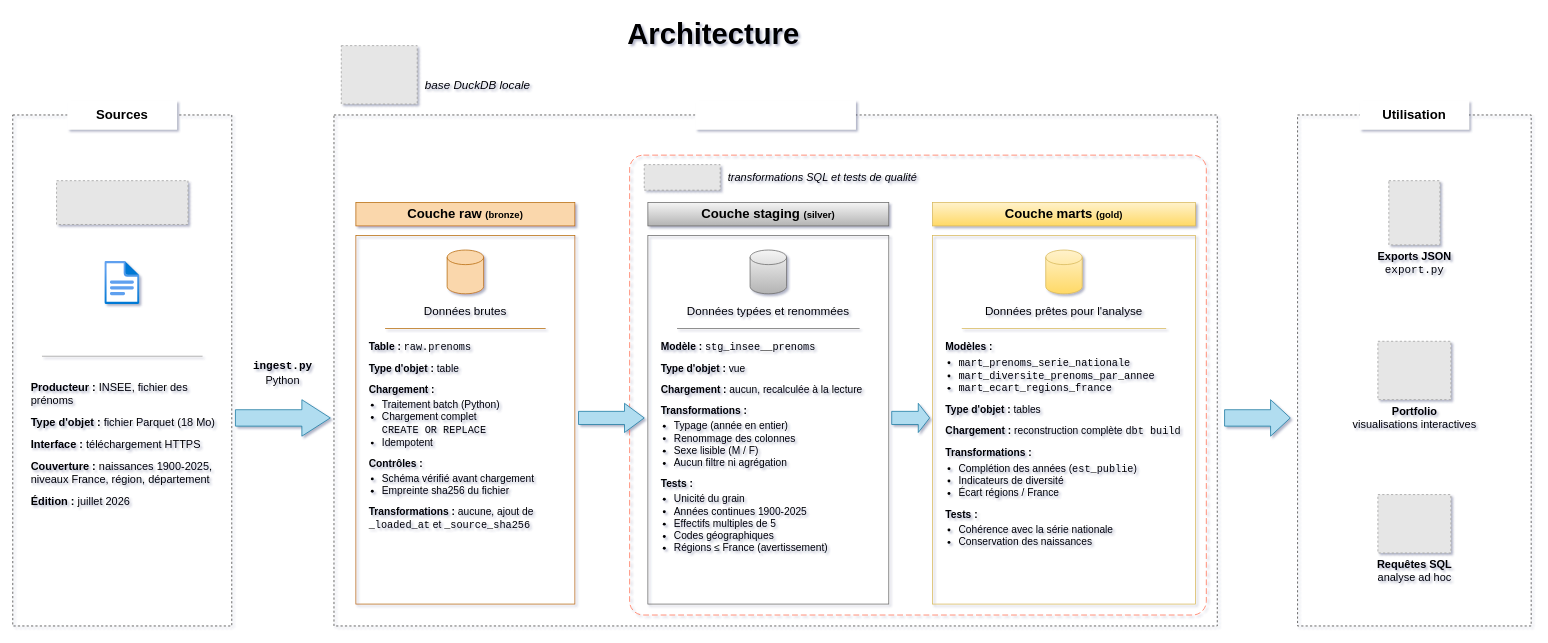
This 1548x643 diagram has some shape labels left out. Grey dashed boxes stand in for pictures. Each missing label, with the centre of its shape:
Entrepôt analytique: the point at 775,114
prenoms-2025.parquet: the point at 121,282
